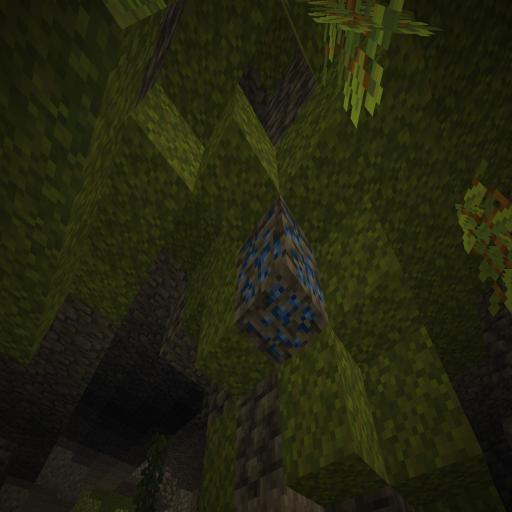lapis ore: (234, 194, 326, 364)
